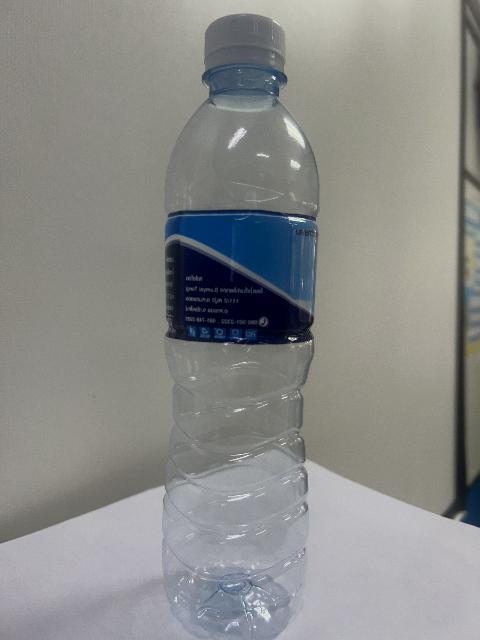bottle: (162, 15, 317, 639)
